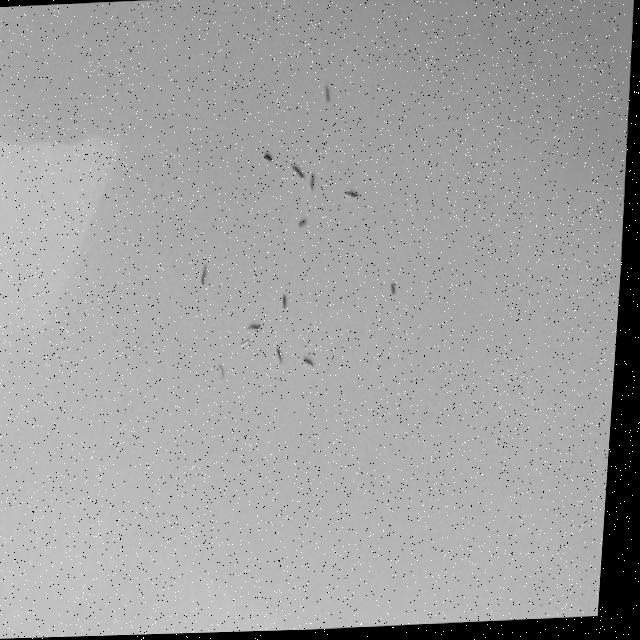Wereng: (284, 154, 308, 187), (302, 166, 325, 199), (190, 255, 213, 287), (267, 336, 288, 370), (314, 78, 337, 108), (295, 348, 320, 374), (227, 333, 256, 354), (287, 211, 313, 234), (274, 286, 294, 313), (209, 358, 229, 384), (339, 182, 361, 205), (258, 141, 278, 166), (383, 275, 402, 299), (238, 318, 266, 331)
